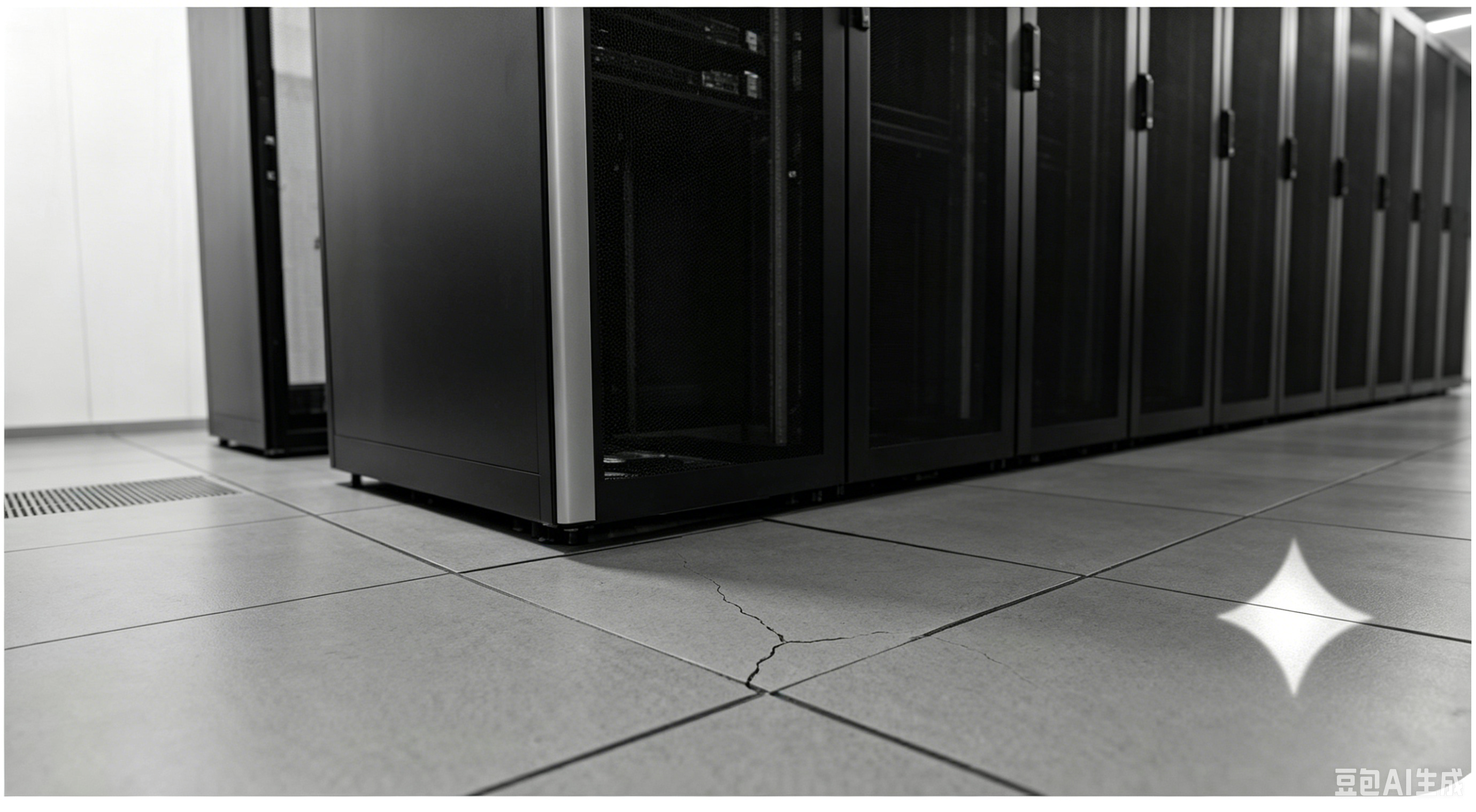floor_defect: (798, 613, 1024, 662), (675, 559, 780, 640), (711, 641, 814, 693)
